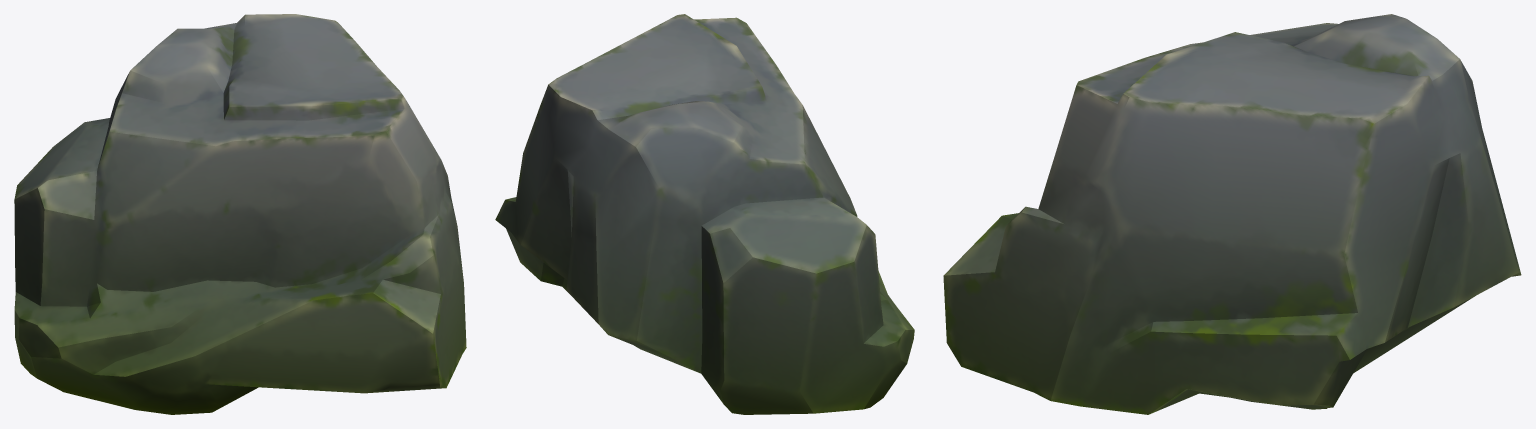
Rendered from Rock_Medium_3.gltf.
3 renders of one model, left to right at view 1: azimuth 30°, elevation 25°; view 2: azimuth 150°, elevation 25°; view 3: azimuth 270°, elevation 25°, orthographic. The views are drawn at different scales.
Parts seen in each view (by area): view 1: Rock_Medium_3; view 2: Rock_Medium_3; view 3: Rock_Medium_3.
Boxes of the visible parts, x1,y1,x2,y2 form: Rock_Medium_3: [14, 14, 466, 414]; Rock_Medium_3: [495, 14, 914, 414]; Rock_Medium_3: [943, 14, 1521, 414].
Size of the model in its own units: 3.42 by 2.32 by 3.48.
Materials: 1 (1 with a texture image).
